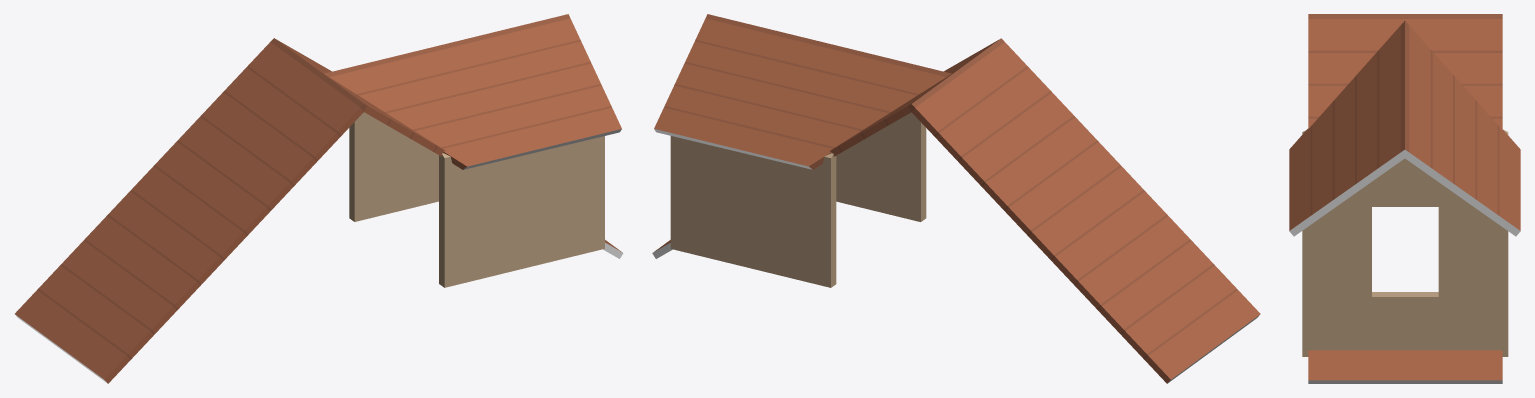
The model's file is Roof2_C5_05.fbx.
3 renders of one model, left to right at view 1: azimuth 30°, elevation 25°; view 2: azimuth 150°, elevation 25°; view 3: azimuth 270°, elevation 25°, orthographic. The views are drawn at different scales.
Visible parts, largest first — view 1: Roof2_C5_05; view 2: Roof2_C5_05; view 3: Roof2_C5_05.
Boxes of the visible parts, box(x1,y1,x2,y2) form: Roof2_C5_05: box(15, 14, 623, 383); Roof2_C5_05: box(652, 14, 1260, 383); Roof2_C5_05: box(1289, 14, 1520, 383).
Bounding box in the file's own units: 833 × 334 × 298.
